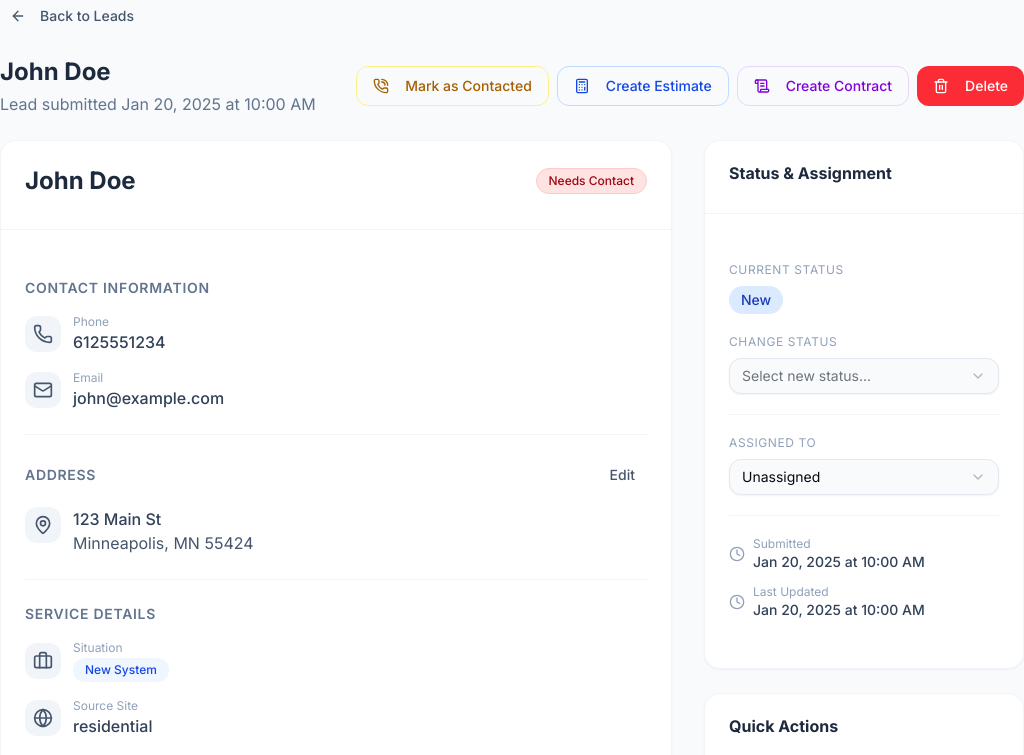
it: LeadDetail › Lead Deletion › opens confirmation dialog when delete button is clicked
# Click the delete button
Click the button with test id "delete-lead-btn": click(971, 86) [917, 66, 1023, 106]
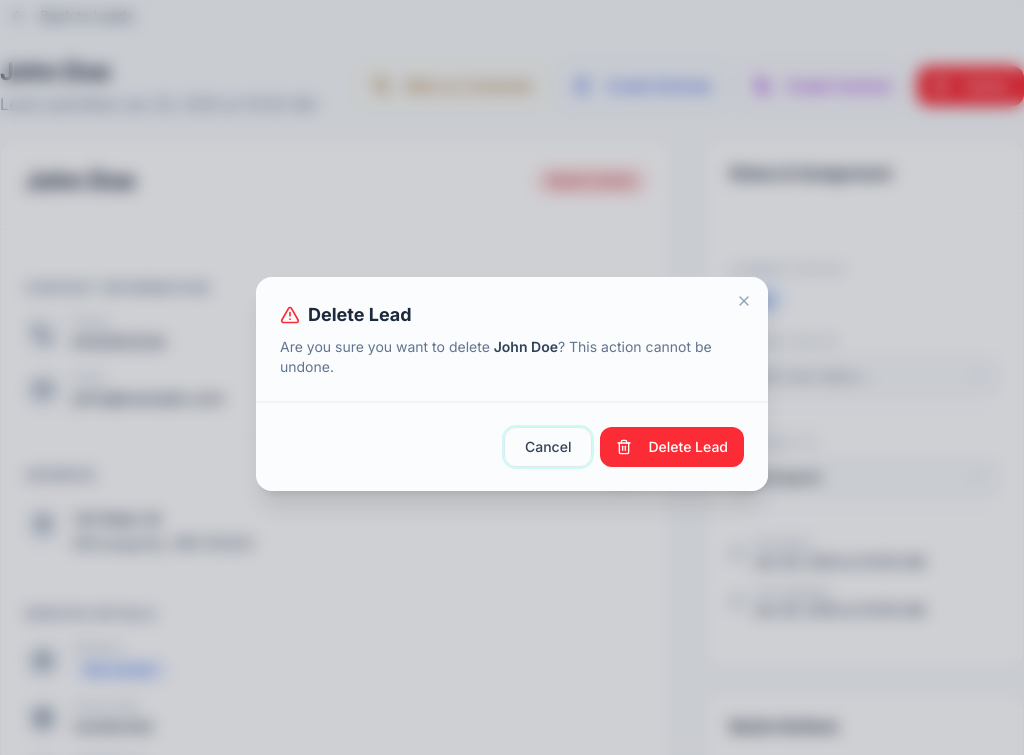
Check: the dialog with test id "delete-confirmation-dialog" is shown, box [256, 277, 768, 491]
Check: the text "Are you sure you want to delete" is shown, box [280, 338, 494, 355]
Check: the button with test id "confirm-delete-btn" is shown, box [600, 427, 744, 467]
